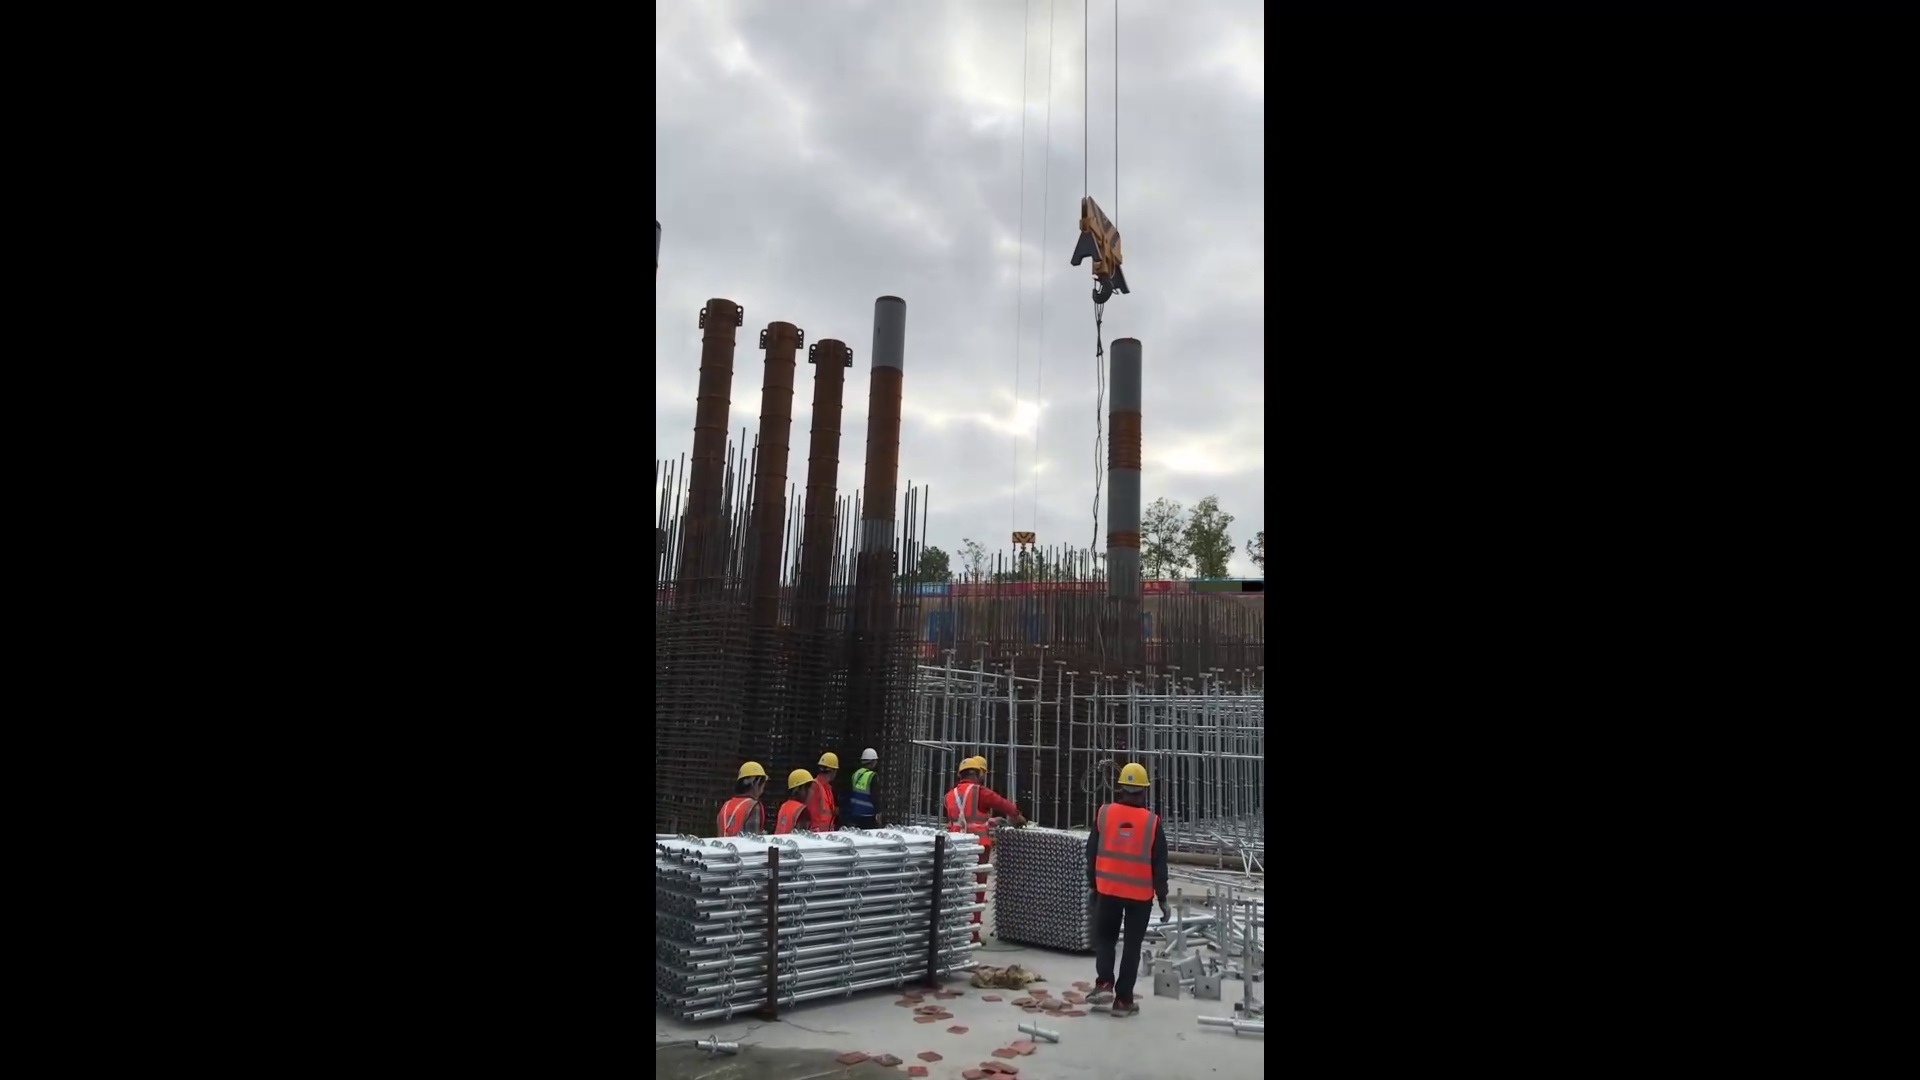helmet: (1117, 761, 1151, 789), (735, 760, 768, 785), (787, 768, 814, 790), (819, 751, 844, 772), (956, 758, 979, 774), (859, 746, 879, 761)
hook: (1069, 194, 1133, 311), (1010, 530, 1038, 552)
person: (1081, 760, 1180, 1022), (941, 756, 1033, 838), (715, 759, 772, 834), (849, 742, 891, 826), (810, 748, 841, 831), (777, 768, 816, 834)
scaffold: (651, 830, 984, 1029), (995, 823, 1096, 963)
vest: (1094, 802, 1159, 905), (946, 783, 995, 835), (850, 765, 880, 823), (716, 797, 761, 834), (809, 777, 836, 825), (778, 799, 807, 826)
